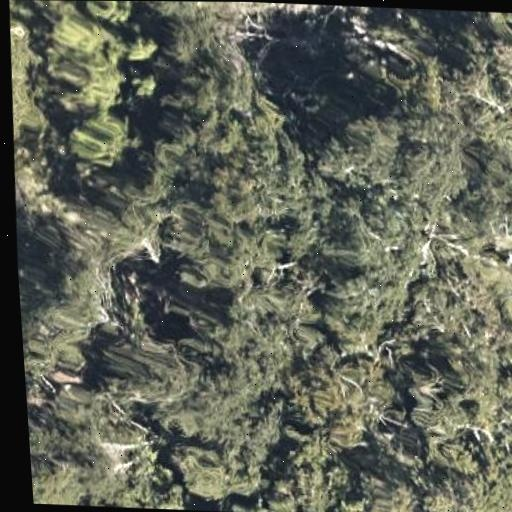tree-top: (151, 75, 338, 295), (321, 99, 483, 213), (25, 217, 131, 345), (282, 351, 404, 446), (38, 28, 135, 128), (3, 3, 48, 199), (315, 272, 416, 352), (107, 336, 203, 406), (142, 1, 235, 63), (401, 372, 480, 443), (60, 105, 142, 173), (352, 463, 424, 512), (30, 454, 89, 505), (473, 441, 512, 512), (119, 27, 160, 64), (59, 497, 166, 509)
